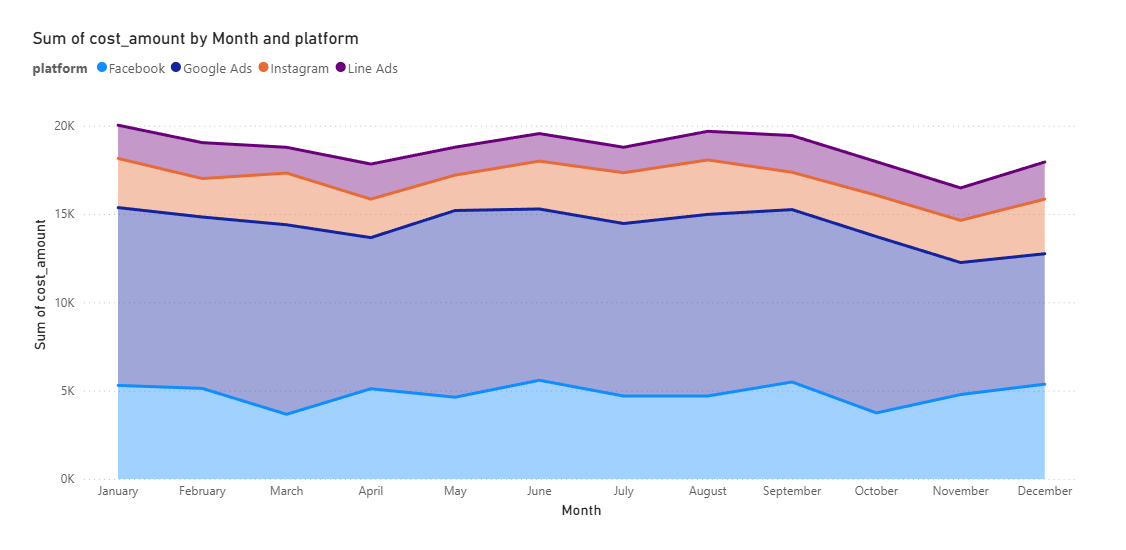

Layout of this report page (visuals, bound fields, positions):
{"tool":"powerbi","page":{"name":"Page 4","canvas":[1280,720],"ordinal":3},"visuals":[{"type":"stackedAreaChart","fields":{"Category":["fact_marketing_spend (1).spend_date.Variation.Date Hierarchy.Month"],"Y":["Sum(fact_marketing_spend (1).cost_amount)"],"Series":["fact_marketing_spend (1).platform"]},"box":[97.2,112.5,1051.2,493],"z":0}]}

Visuals, with their boxes on the page's 1280x720 design canvas (x1, y1, x2, y2). These are canvas units, not pixel positions in the 1126x550 screenshot, which may show the page scaled, cropped or inside an application window:
stackedAreaChart - fact_marketing_spend (1).spend_date.Variation.Date Hierarchy.Month x Sum(fact_marketing_spend (1).cost_amount): box(97, 112, 1148, 606)
